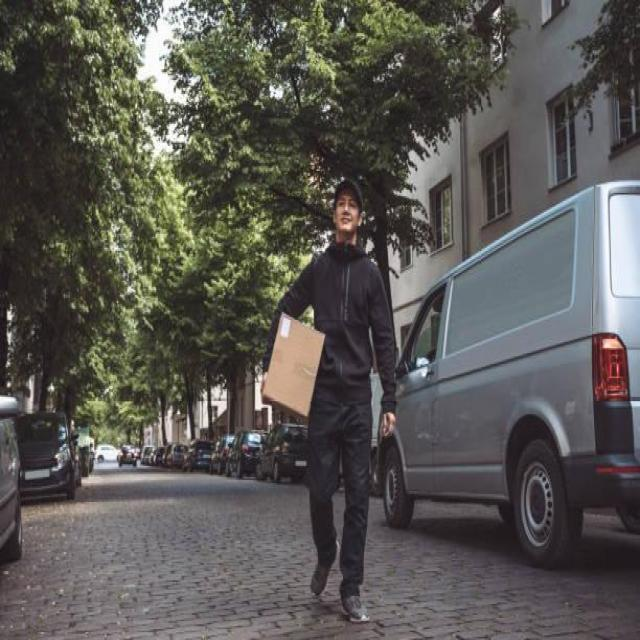box: (258, 305, 332, 422)
